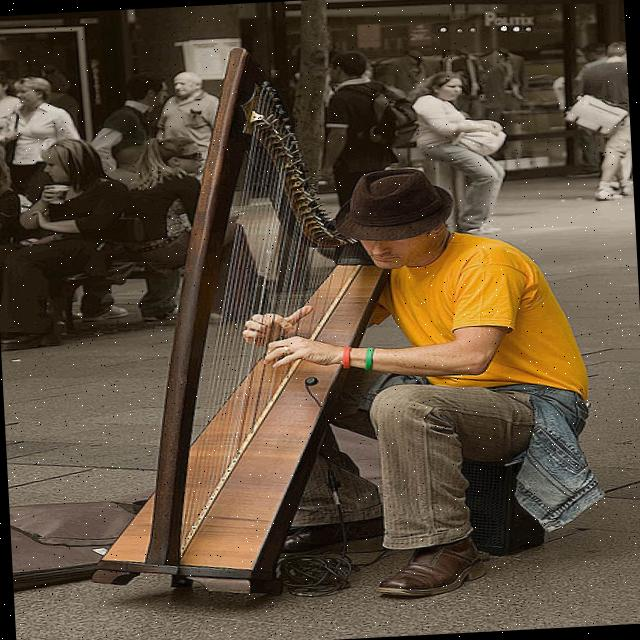harp: (61, 40, 416, 605)
